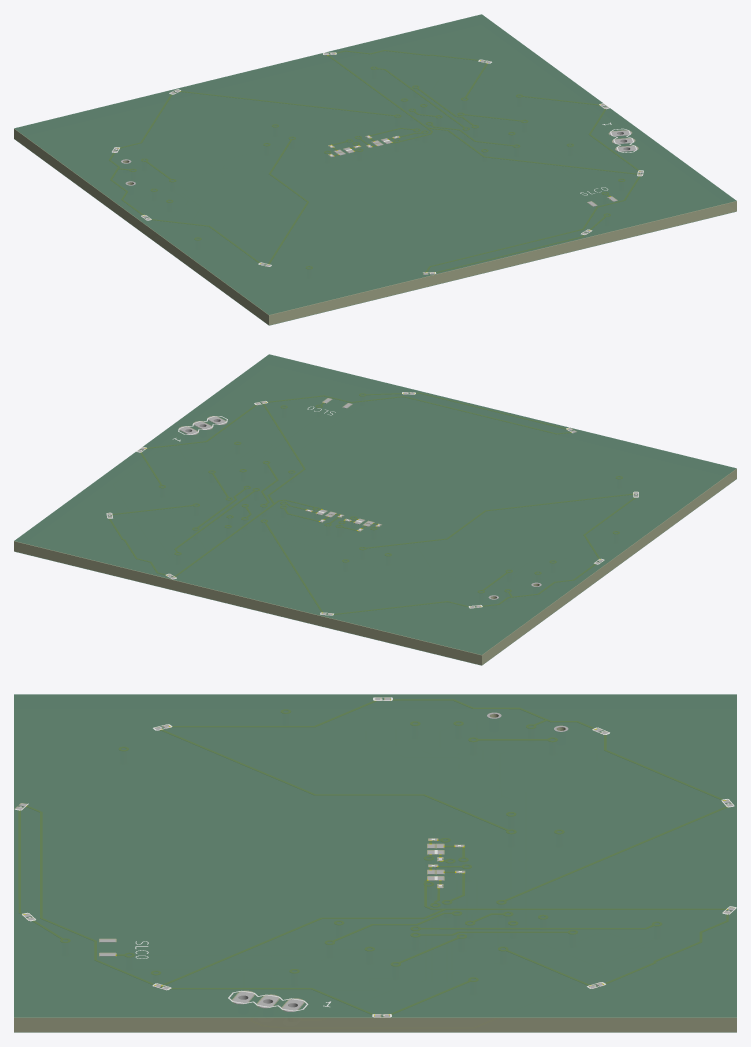
Rendered from dc801-dc24-party-badge.glb.
3 renders of one model, top to bottom at view 1: azimuth 30°, elevation 25°; view 2: azimuth 150°, elevation 25°; view 3: azimuth 270°, elevation 25°, orthographic. The views are drawn at different scales.
Visible parts, largest first — view 1: =>[0:1:1:9], =>[0:1:1:7], =>[0:1:1:2], =>[0:1:1:5]; view 2: =>[0:1:1:9], =>[0:1:1:7], =>[0:1:1:2], =>[0:1:1:5]; view 3: =>[0:1:1:7], =>[0:1:1:9], =>[0:1:1:2], =>[0:1:1:5].
Boxes of the visible parts, x1,y1,x2,y2 form: =>[0:1:1:9]: [14, 15, 736, 325]; =>[0:1:1:7]: [14, 14, 736, 325]; =>[0:1:1:2]: [109, 50, 642, 274]; =>[0:1:1:5]: [112, 52, 643, 273]; =>[0:1:1:9]: [14, 355, 736, 665]; =>[0:1:1:7]: [14, 354, 736, 665]; =>[0:1:1:2]: [107, 392, 638, 615]; =>[0:1:1:5]: [106, 392, 638, 615]; =>[0:1:1:7]: [14, 694, 736, 1032]; =>[0:1:1:9]: [14, 695, 736, 1032]; =>[0:1:1:2]: [16, 698, 734, 1017]; =>[0:1:1:5]: [15, 697, 736, 1017].
Bounding box in the file's own units: 0.0737 × 0.00166 × 0.0696.
4 materials, 4 textured.
